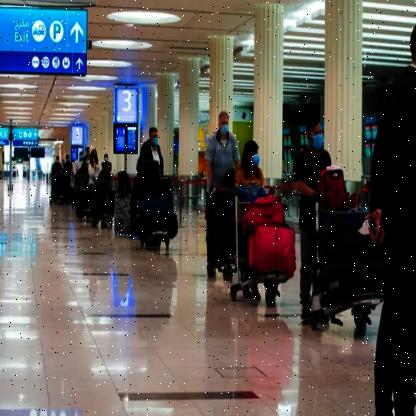airport-trolley: (306, 184, 388, 340), (226, 185, 292, 305), (131, 166, 179, 258)
